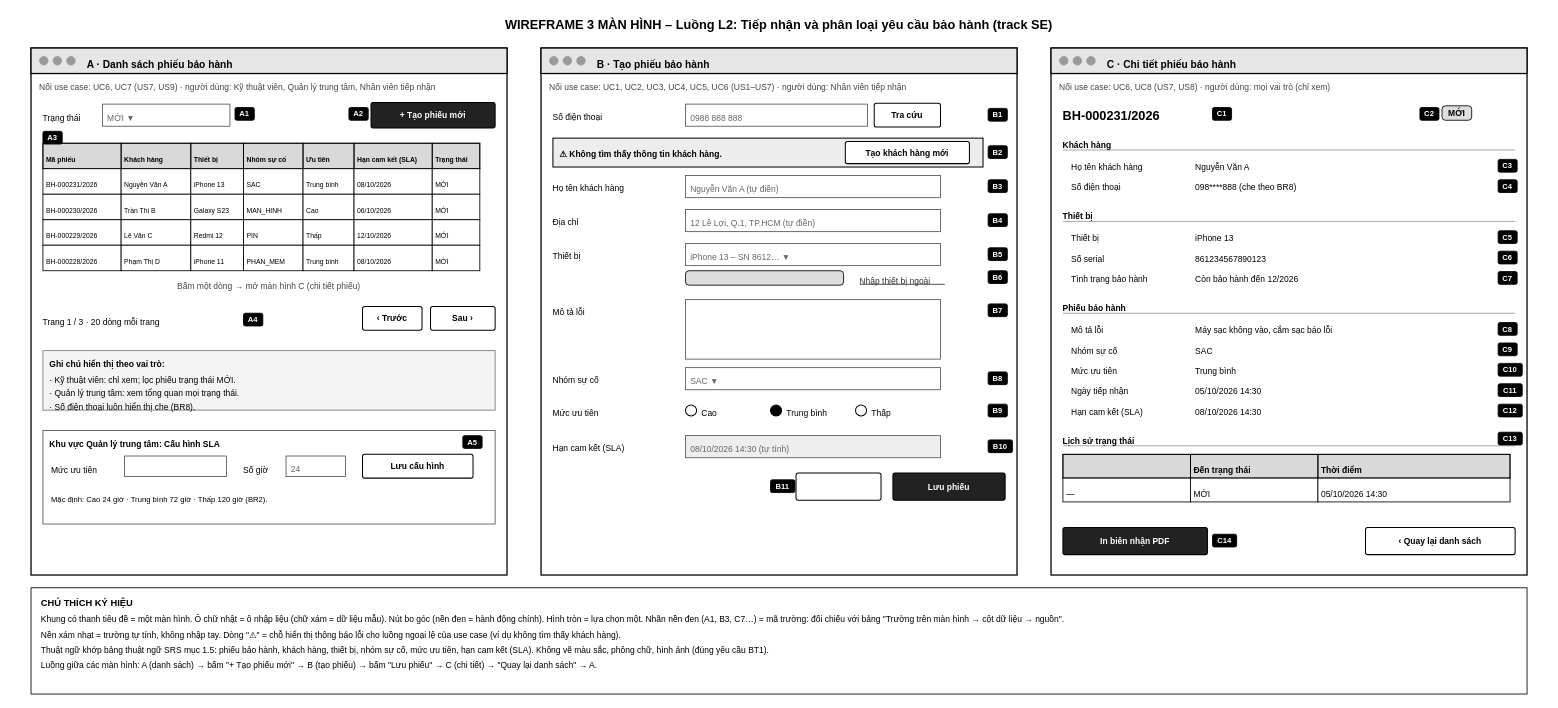
The diagram is 1558 pixels wide and 708 high, and some of its shapes have lost their labels. The shapes that lost their labels are listed below. From the top down, each one's centre as x and y in pixels, then its label:
the point at 764,277: Còn bảo hành (hạn đến 12/2026)
the point at 813,329: Máy sạc không vào, cắm sạc báo lỗi…
the point at 175,465: Cao ▼
the point at 1126,465: Từ trạng thái
the point at 838,486: Hủy
